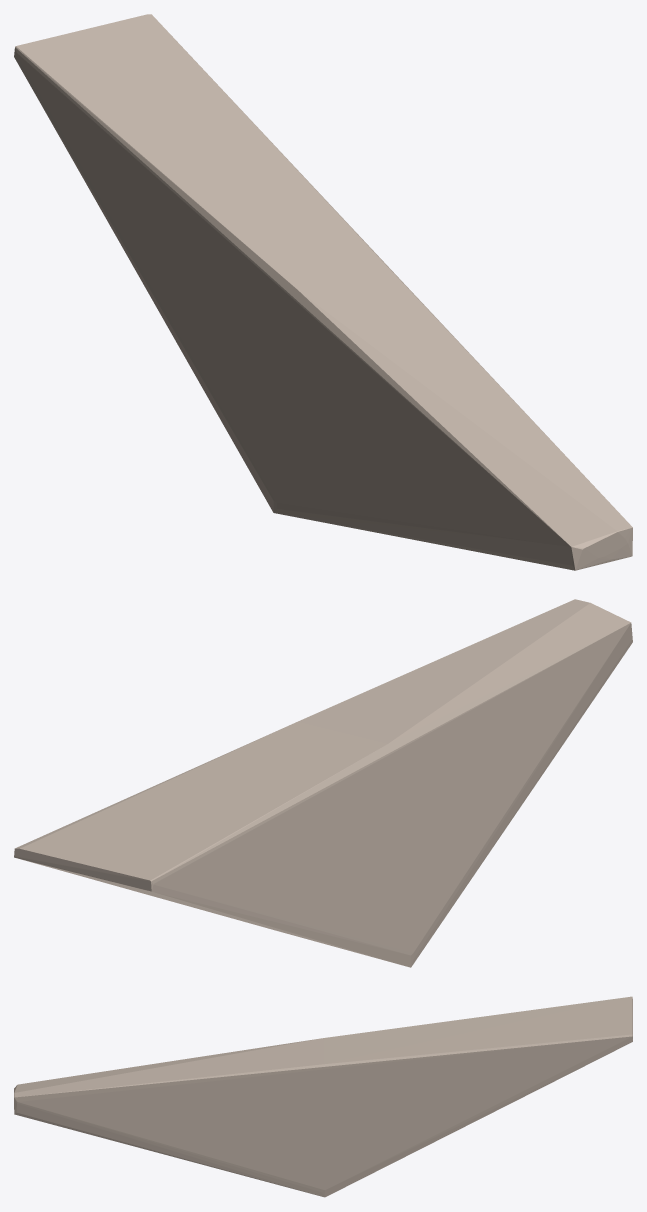
Rendered from ladder_step_fiberglass_heavyDuty_a03.glb.
3 views of the same model, one above another, from view 1: azimuth 30°, elevation 25°; view 2: azimuth 150°, elevation 25°; view 3: azimuth 270°, elevation 25° (orthographic). The views are drawn at different scales.
Parts seen in each view (by area): view 1: geometry_0; view 2: geometry_0; view 3: geometry_0.
Boxes of the visible parts, x1,y1,x2,y2 form: geometry_0: (14, 14, 632, 570); geometry_0: (14, 599, 632, 967); geometry_0: (14, 996, 632, 1197).
Bounding box in the file's own units: 0.0731 × 0.1404 × 0.4798.
